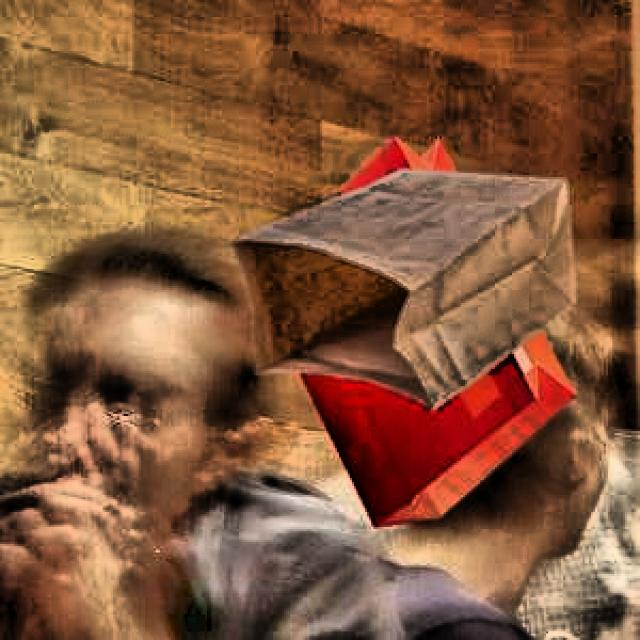Paper-bag: (253, 118, 586, 544), (211, 143, 599, 407)
